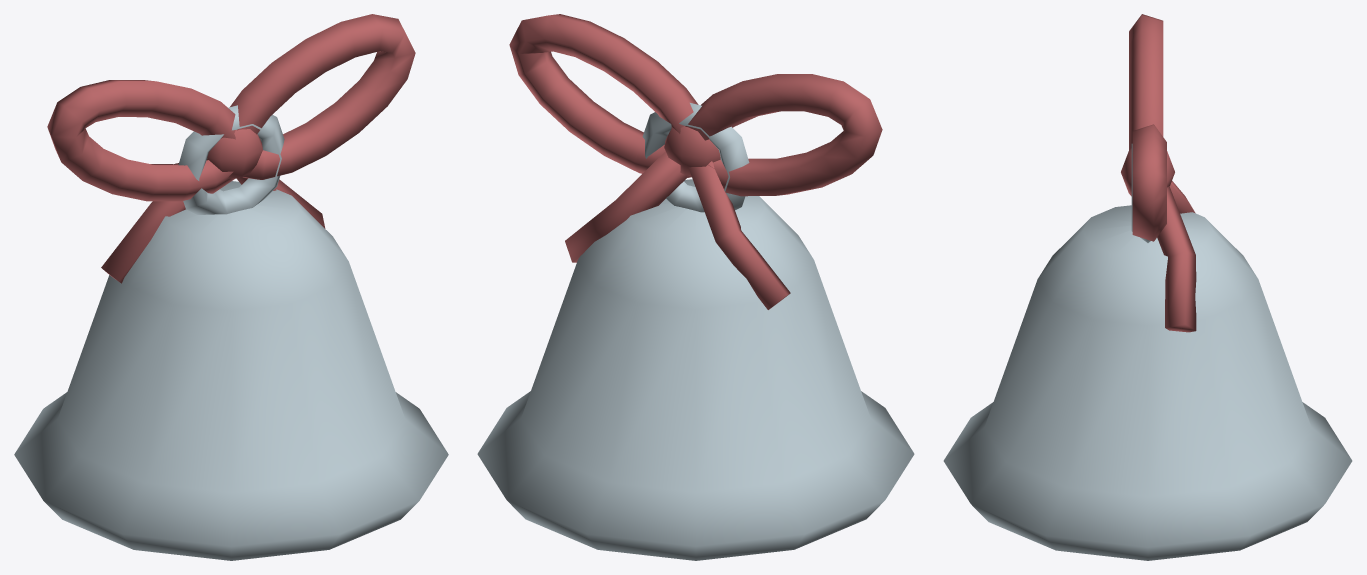
The model's file is little_bell.glb.
3 views of the same model, side by side, from view 1: azimuth 30°, elevation 25°; view 2: azimuth 150°, elevation 25°; view 3: azimuth 270°, elevation 25° (orthographic). The views are drawn at different scales.
Parts seen in each view (by area): view 1: Bell flared cup, Ribbon loop.001, Ribbon loop, Bell loop, Ribbon end, Ribbon knot, Ribbon end.001; view 2: Bell flared cup, Ribbon loop.001, Ribbon loop, Ribbon end, Ribbon end.001, Bell loop, Ribbon knot; view 3: Bell flared cup, Ribbon loop, Ribbon loop.001, Ribbon end.001, Ribbon knot.
Boxes of the visible parts, x1,y1,x2,y2 form: Bell flared cup: (14, 181, 448, 560); Ribbon loop.001: (230, 14, 415, 179); Ribbon loop: (47, 80, 235, 201); Bell loop: (178, 105, 284, 214); Ribbon end: (101, 201, 185, 283); Ribbon knot: (207, 129, 262, 178); Ribbon end.001: (236, 177, 325, 228); Bell flared cup: (477, 179, 914, 560); Ribbon loop.001: (509, 14, 698, 177); Ribbon loop: (685, 74, 882, 196); Ribbon end: (688, 161, 790, 309); Ribbon end.001: (565, 151, 686, 262); Bell loop: (642, 103, 749, 212); Ribbon knot: (664, 126, 720, 175); Bell flared cup: (943, 205, 1352, 560); Ribbon loop: (1129, 14, 1163, 150); Ribbon loop.001: (1132, 124, 1166, 241); Ribbon end.001: (1157, 186, 1196, 332); Ribbon knot: (1121, 148, 1174, 196).
Bounding box in the file's own units: 0.18 × 0.2148 × 0.18.
